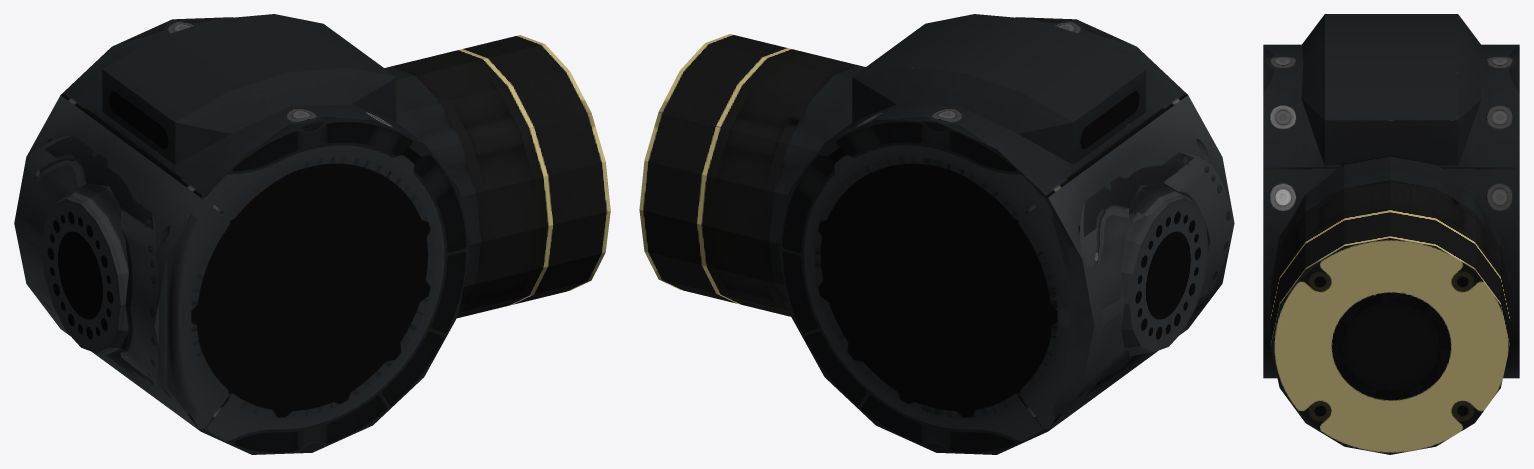
Rendered from hip_r.dae.
3 views of the same model, side by side, from view 1: azimuth 30°, elevation 25°; view 2: azimuth 150°, elevation 25°; view 3: azimuth 270°, elevation 25° (orthographic). The views are drawn at different scales.
Visible parts, largest first — view 1: Cylinder; view 2: Cylinder; view 3: Cylinder.
Boxes of the visible parts, left/top/right/bottom form: Cylinder: left=14, top=14, right=610, bottom=454; Cylinder: left=639, top=14, right=1234, bottom=454; Cylinder: left=1263, top=14, right=1519, bottom=454.
Size of the model in its own units: 0.172 by 0.09 by 0.1252.
1 material, 1 textured.
